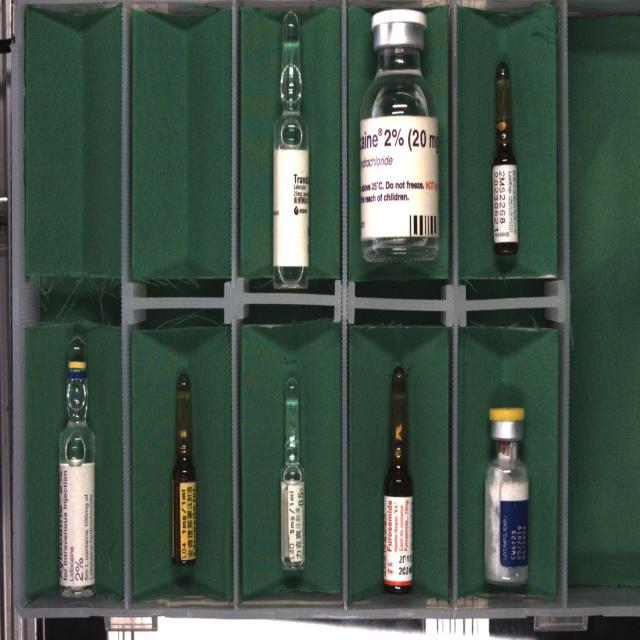Vials: (360, 10, 439, 261), (485, 407, 528, 585)
